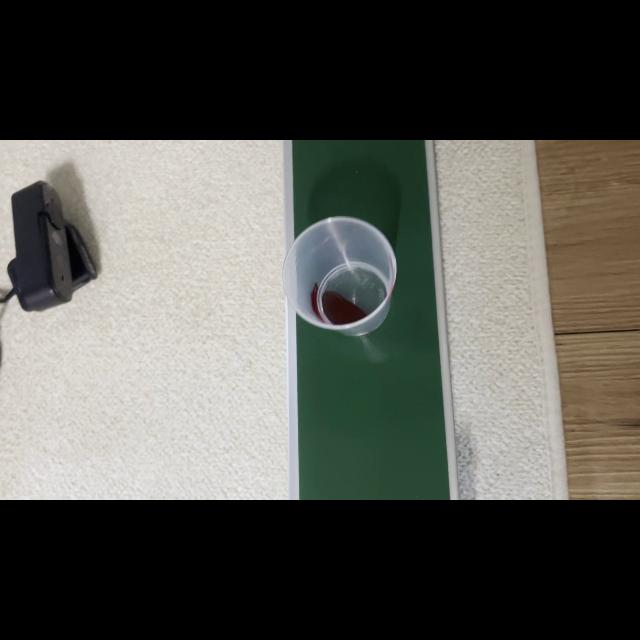dirty: (282, 215, 396, 337)
